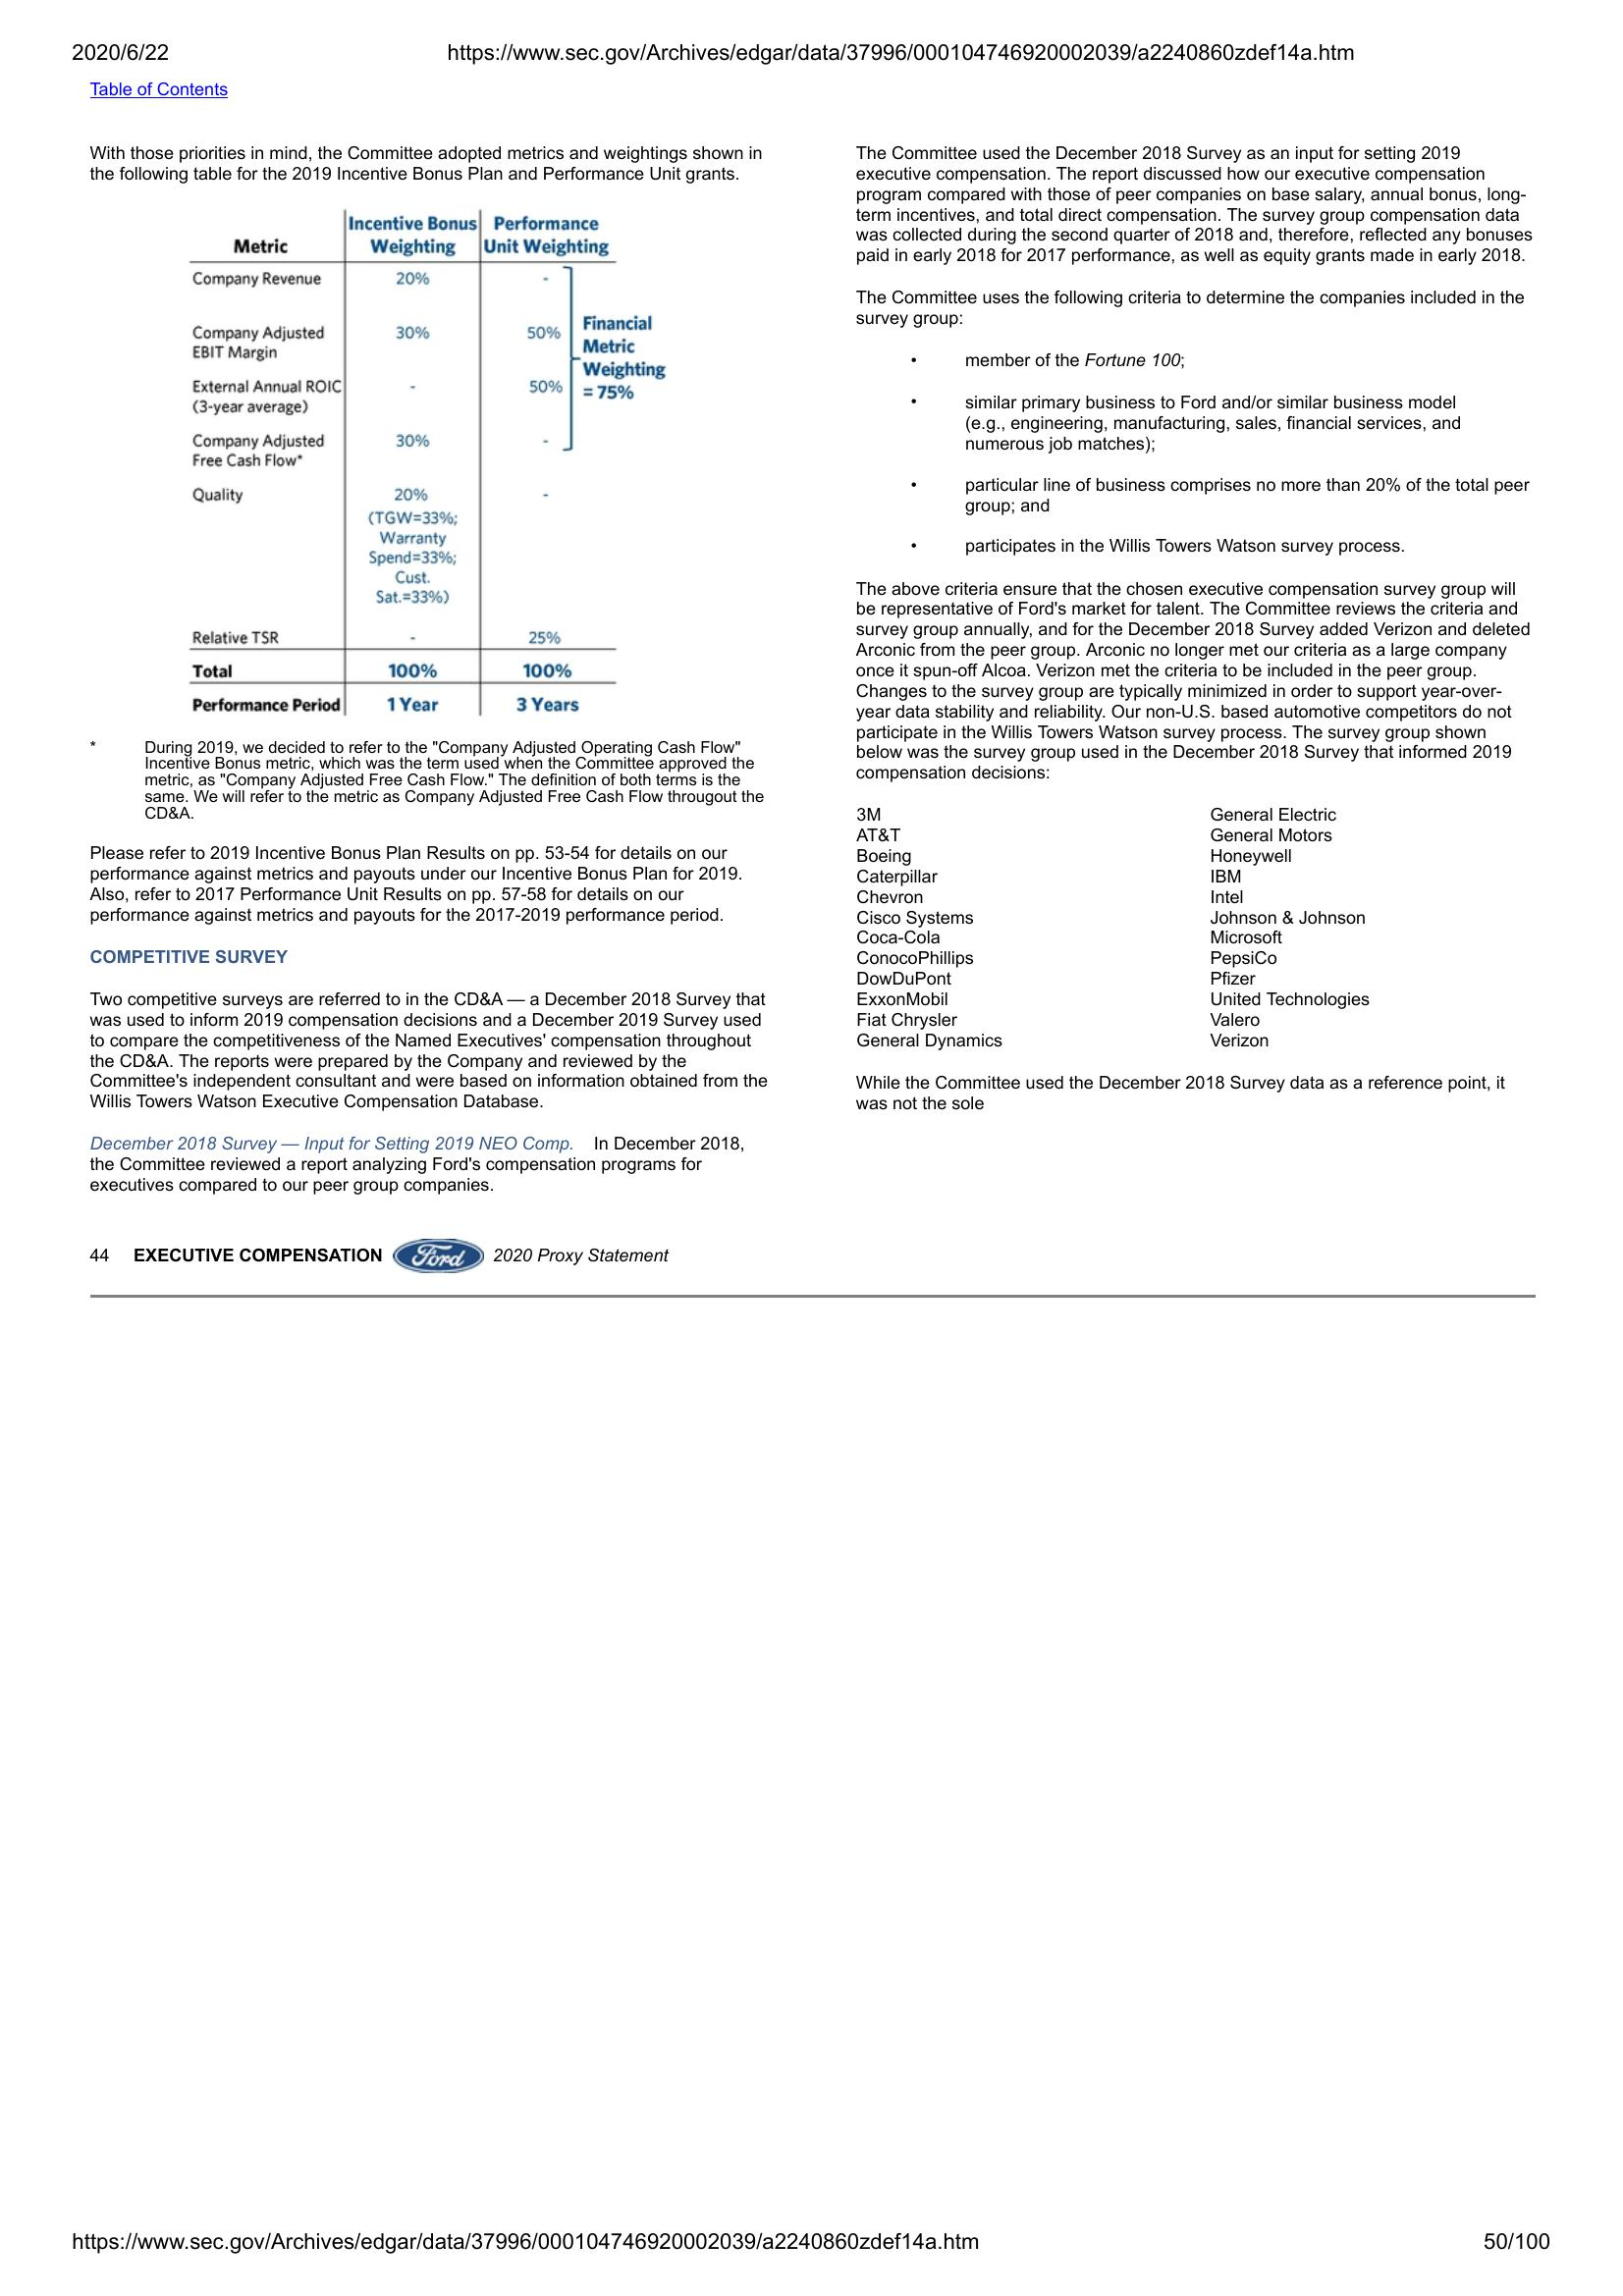table: (183, 205, 671, 718), (852, 795, 1381, 1057)
